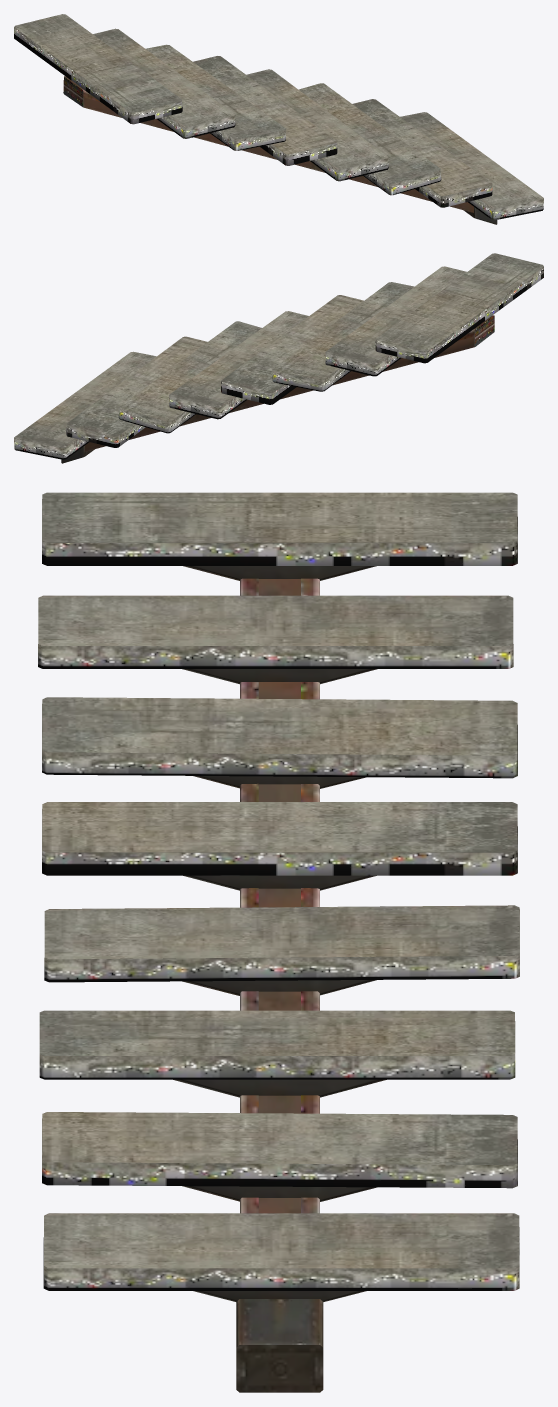
Rendered from foundation.steps.toptier.glb.
3 views of the same model, one above another, from view 1: azimuth 30°, elevation 25°; view 2: azimuth 150°, elevation 25°; view 3: azimuth 270°, elevation 25° (orthographic). The views are drawn at different scales.
Parts seen in each view (by area): view 1: LOD0; view 2: LOD0; view 3: LOD0.
Boxes of the visible parts, <box> form: LOD0: <box>14,14,543,224</box>; LOD0: <box>14,253,543,463</box>; LOD0: <box>38,492,519,1392</box>.
Bounding box in the file's own units: 3.01 × 1.73 × 1.52.
Materials: 1 (1 with a texture image).
